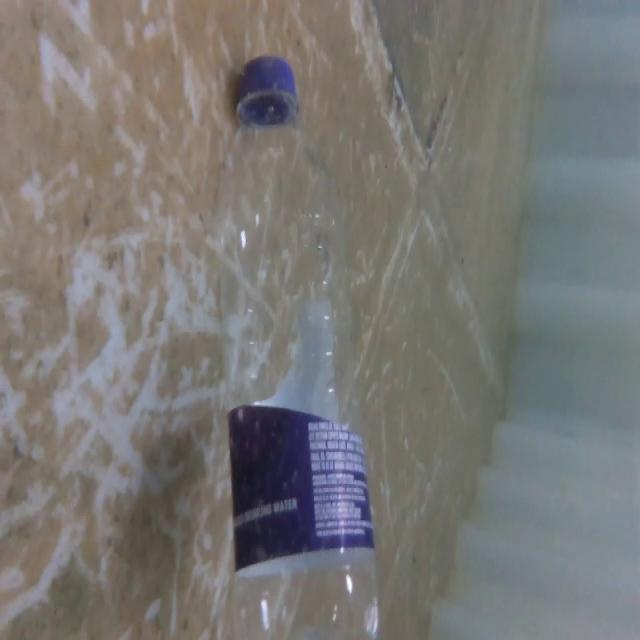plastic bottle: (219, 49, 381, 640)
